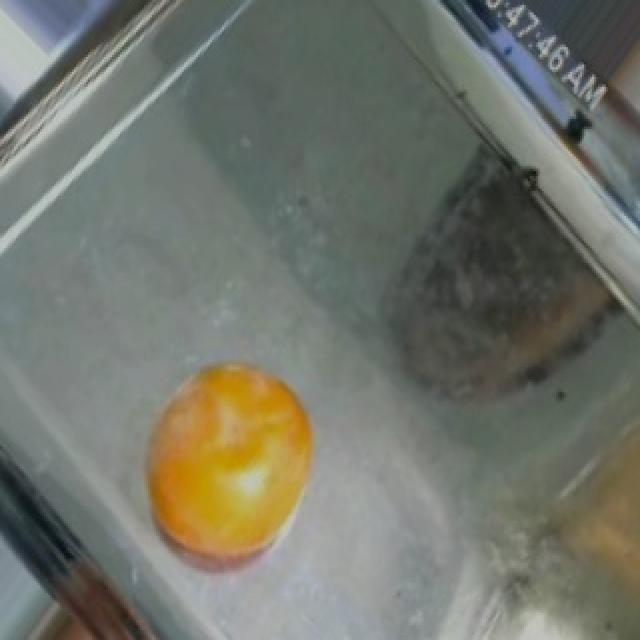Fruit: (130, 345, 334, 588), (590, 0, 640, 208), (2, 593, 152, 640)
